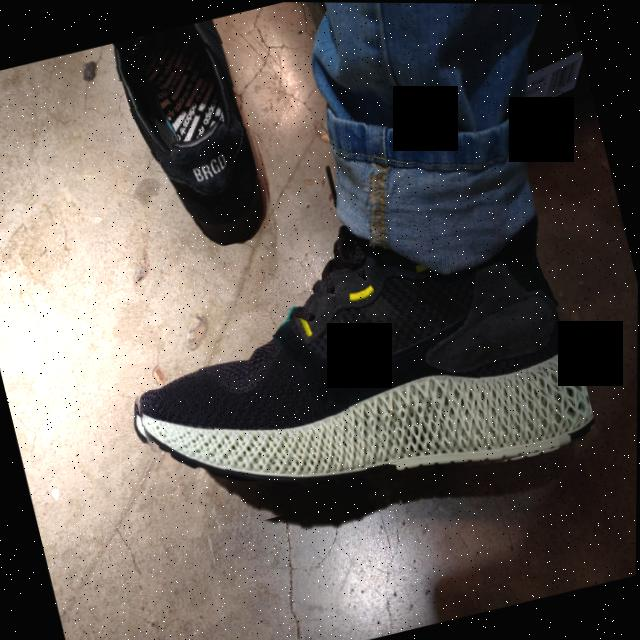shoe: (100, 176, 601, 547), (102, 14, 282, 262)
